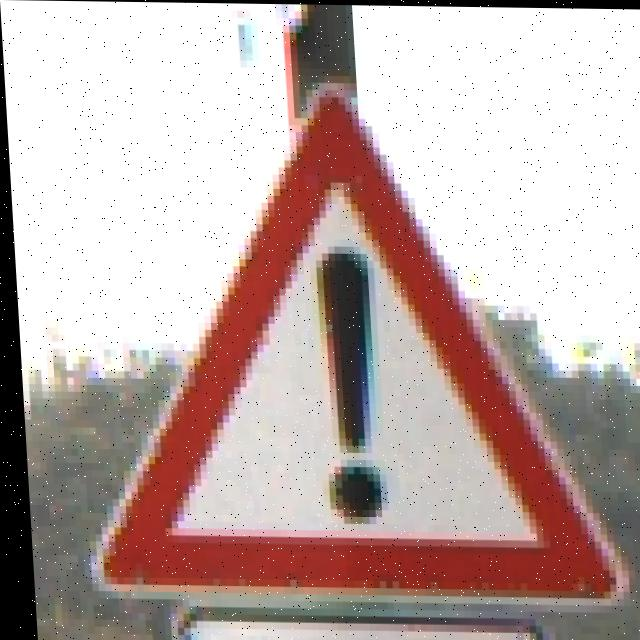warning: (141, 126, 640, 605)
